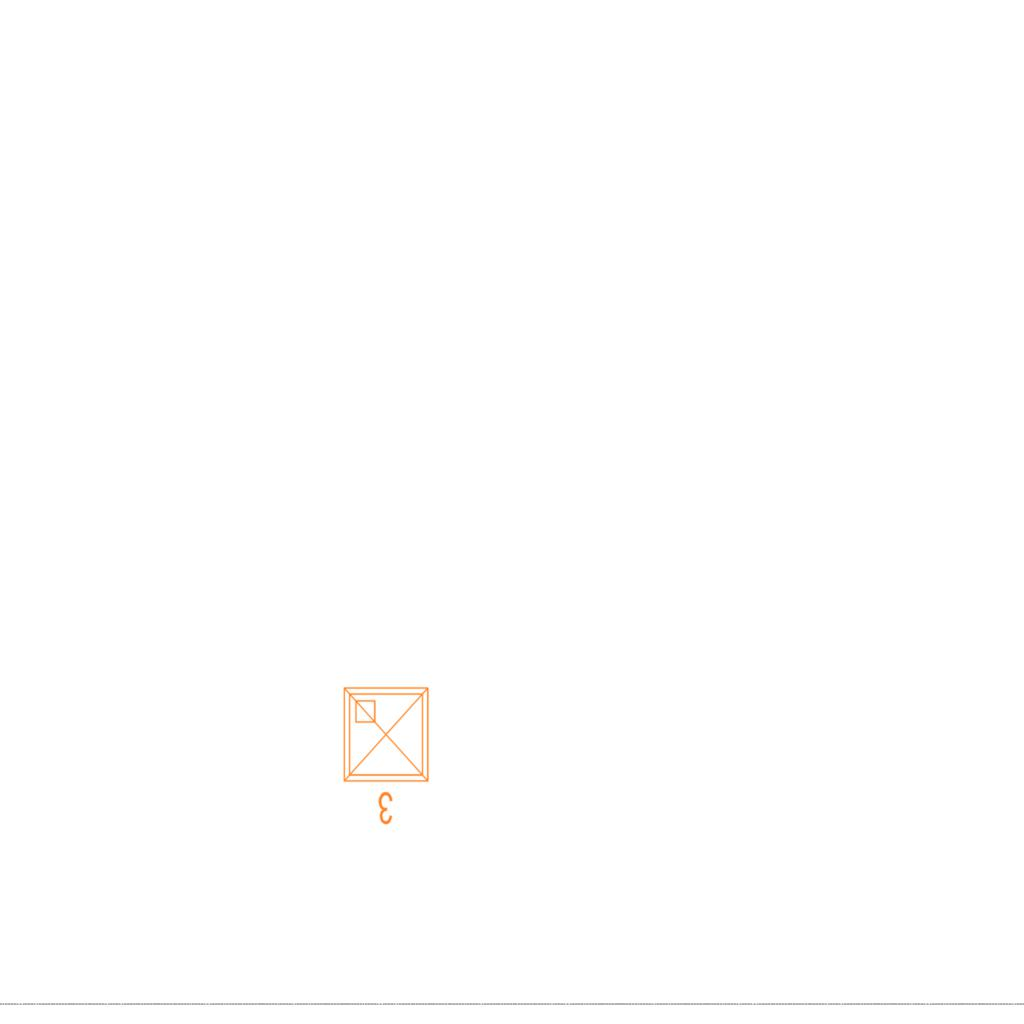Einbaudownlights_LED_Konferenzraeume: (336, 680, 440, 830)
